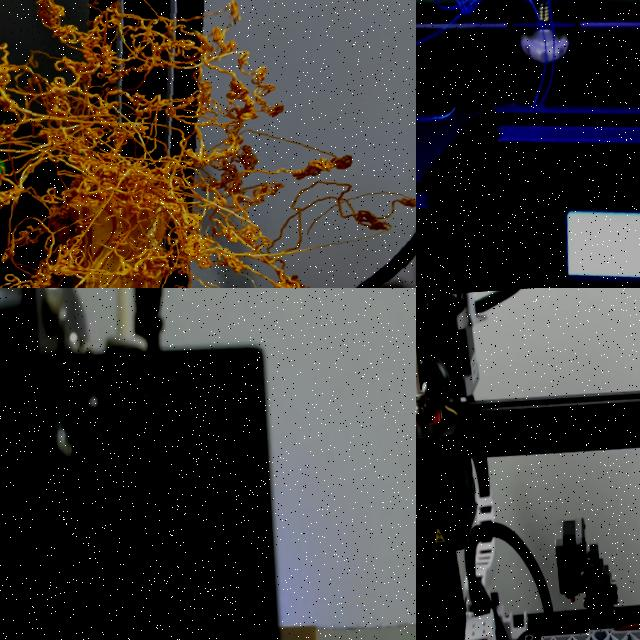spaghetti: (0, 0, 416, 288), (416, 133, 436, 185)
